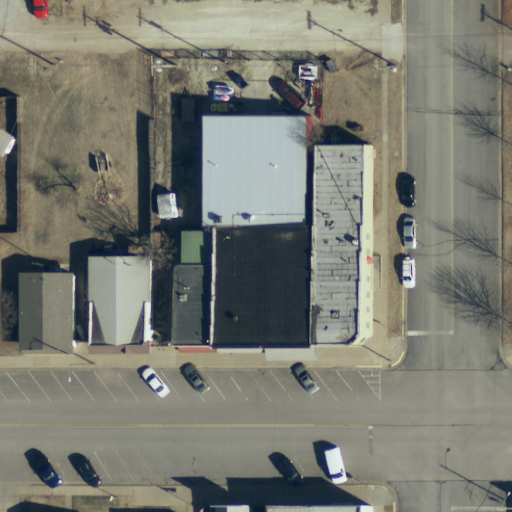DT: (24, 52, 58, 82), (144, 53, 180, 79), (370, 55, 399, 82), (211, 50, 240, 69)
